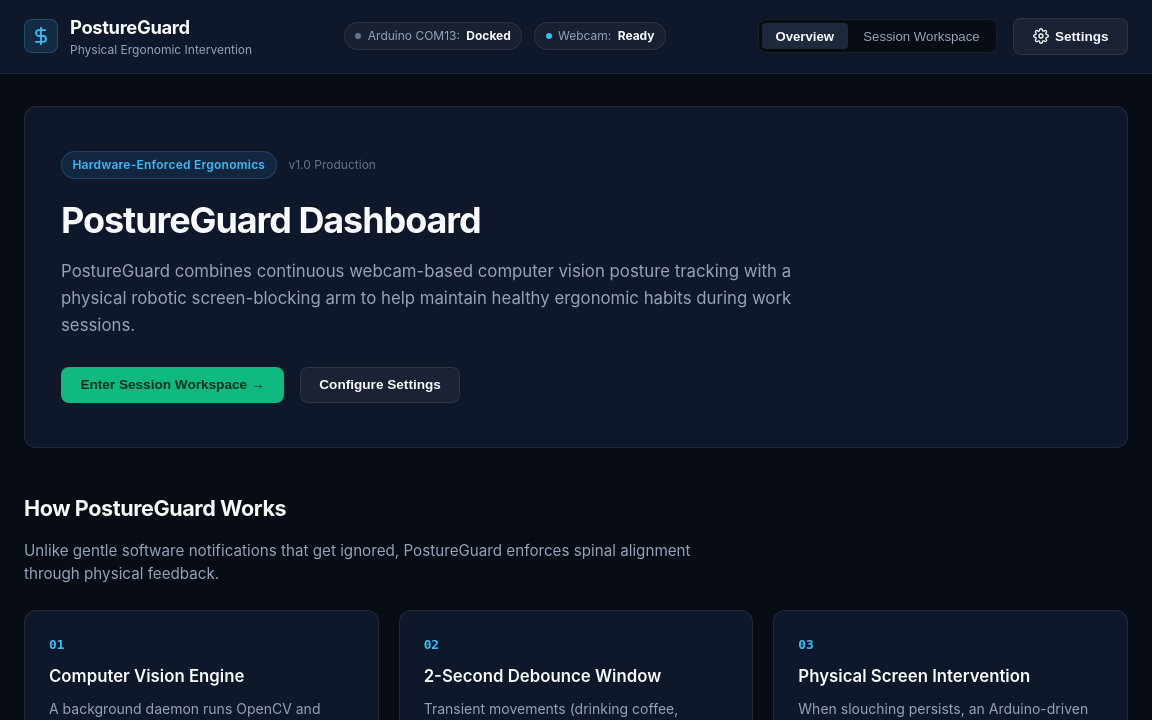
Test: Settings Modal & History › opens the settings modal from navbar and displays detection settings
The width and height of the screenshot is (1152, 720).
Click the button "Settings" at {"x": 1071, "y": 36}, box x1=1013 y1=18 x2=1128 y2=55
(page scrolled)
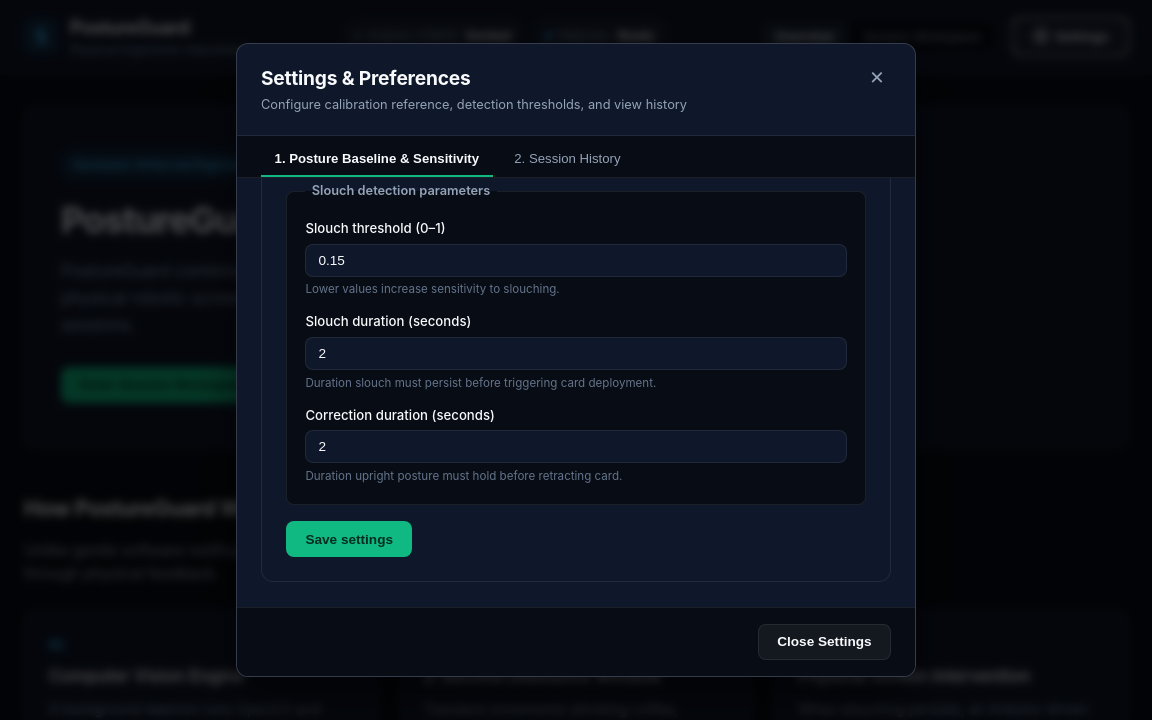
Result: the dialog "Settings & Preferences" is shown at x1=236 y1=43 x2=916 y2=677
Result: the number field labelled "Slouch threshold (0–1)" holds "0.15" at x1=305 y1=244 x2=847 y2=277
Result: the number field labelled "Slouch duration (seconds)" holds "2" at x1=305 y1=337 x2=847 y2=370
